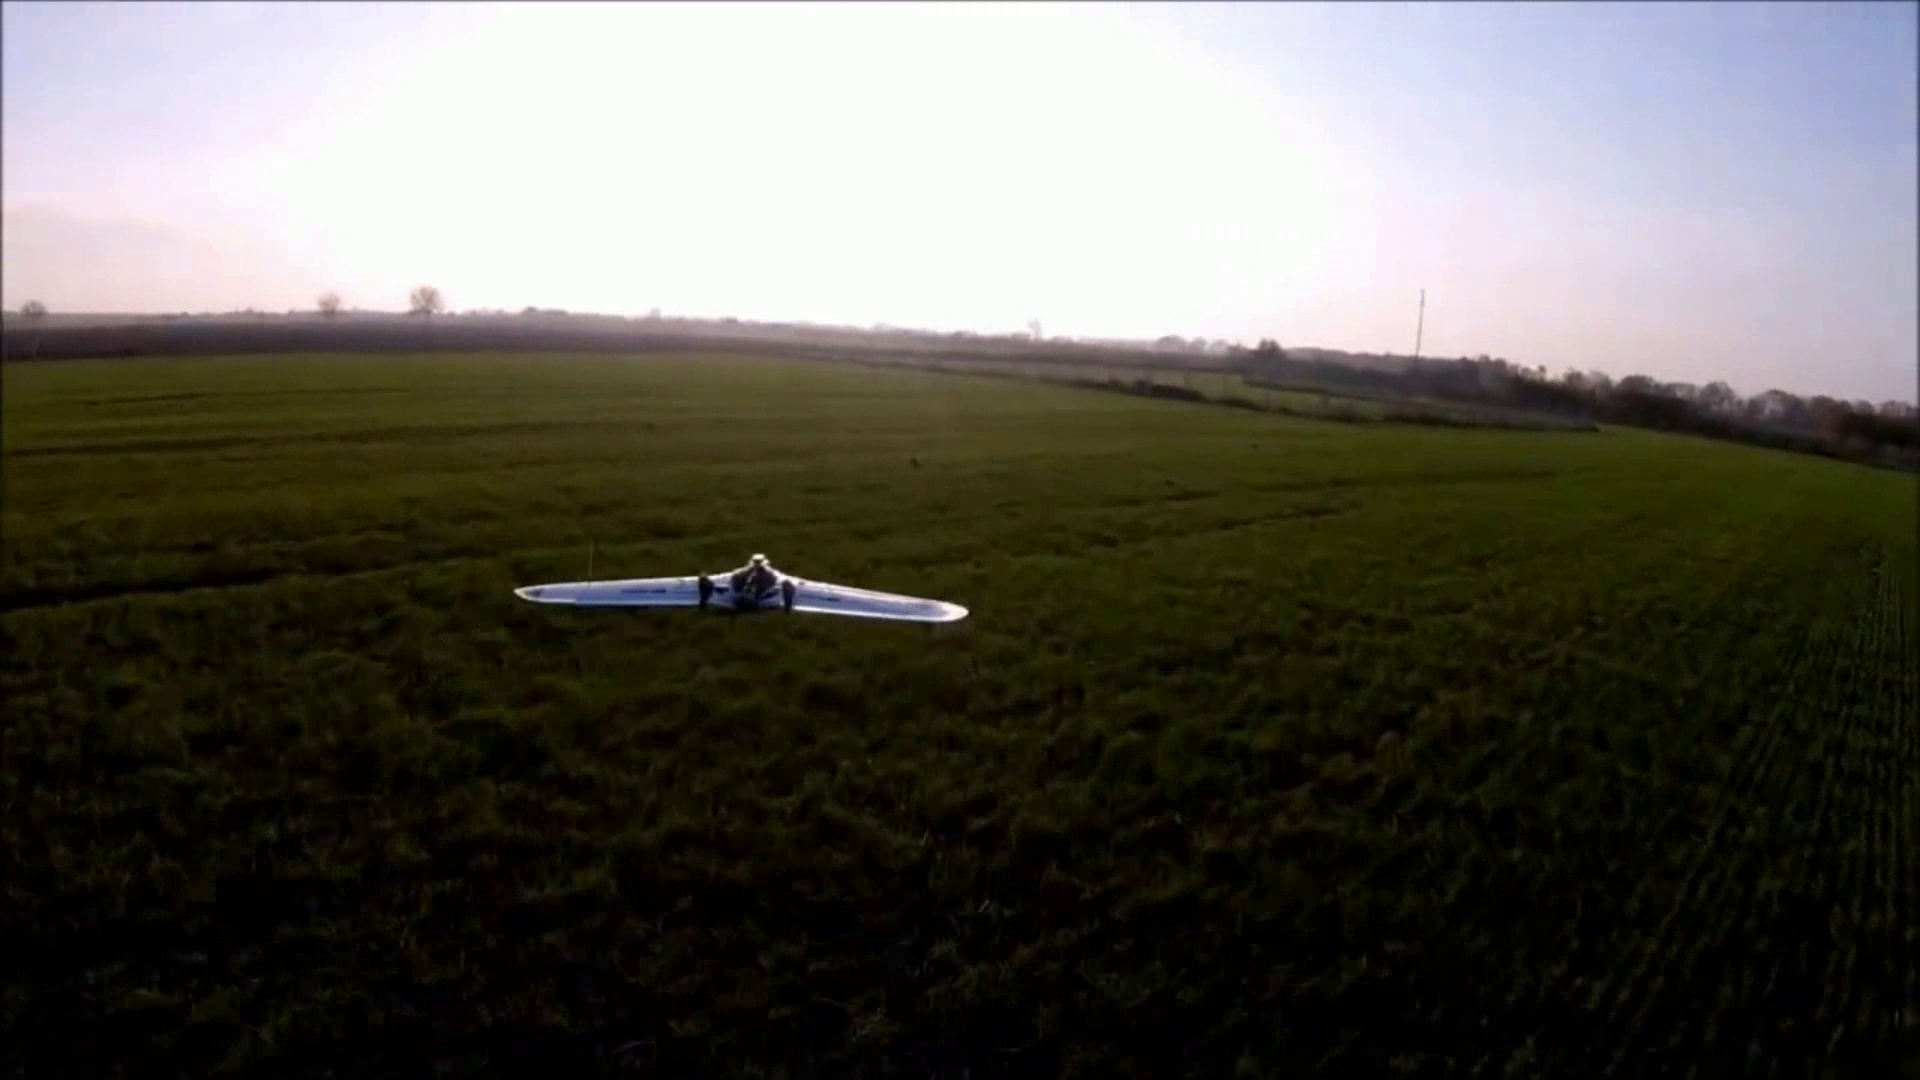airplane: (512, 559, 968, 625)
